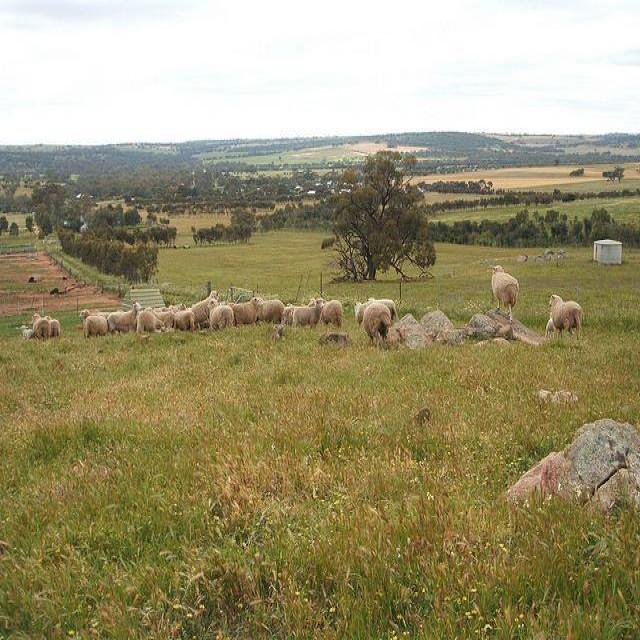Sheep: (19, 288, 554, 340), (550, 294, 584, 342)
